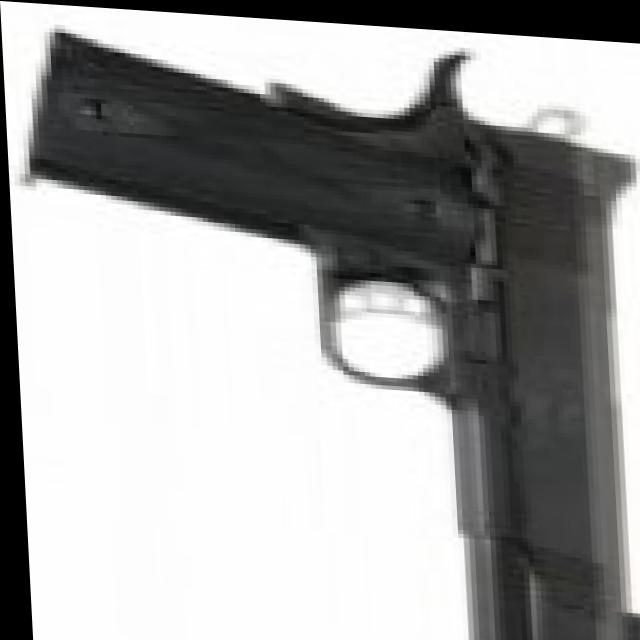handgun: (28, 25, 640, 640)
